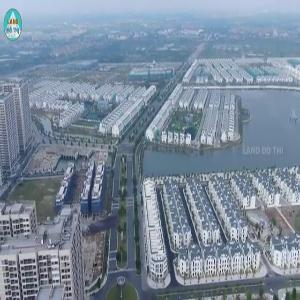drone: (59, 172, 150, 263)
